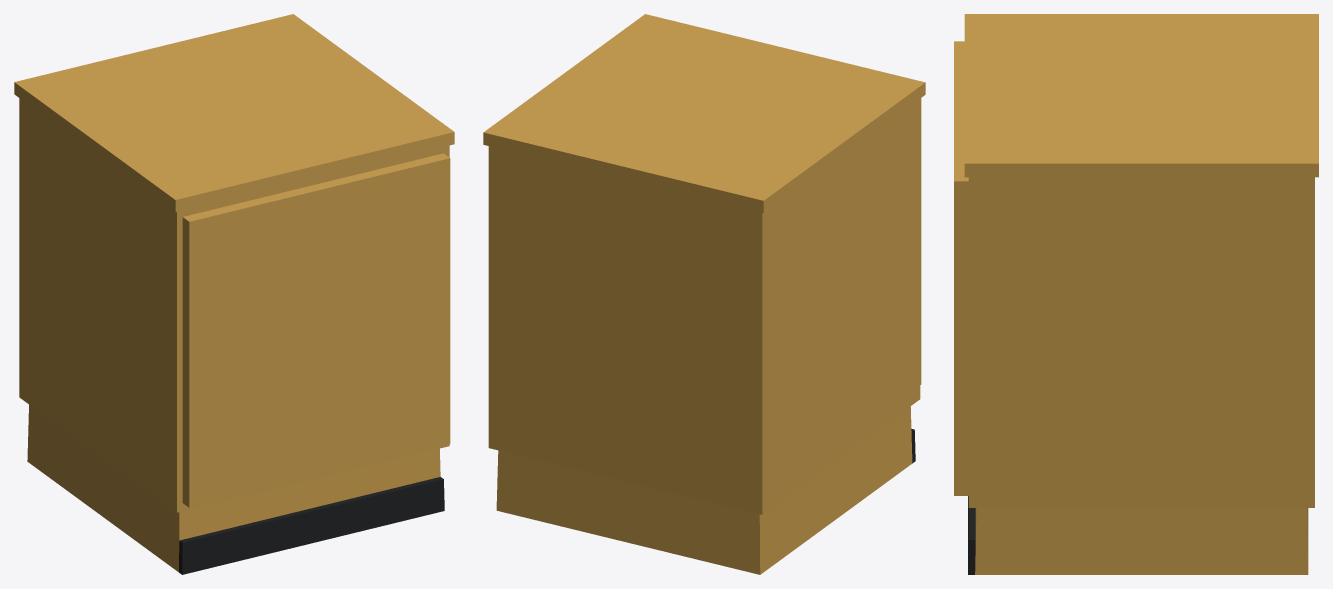
The model's file is Dishwasher_01_D.gltf.
The picture shows the model from 3 angles, left to right: view 1: azimuth 30°, elevation 25°; view 2: azimuth 150°, elevation 25°; view 3: azimuth 270°, elevation 25°; orthographic projection. The views are drawn at different scales.
Visible parts, largest first — view 1: Dishwasher_01_D, DoorDishwasher_01_D; view 2: Dishwasher_01_D, DoorDishwasher_01_D; view 3: Dishwasher_01_D, DoorDishwasher_01_D.
Boxes of the visible parts, box(x1,y1,x2,y2) form: Dishwasher_01_D: box(14, 14, 454, 574); DoorDishwasher_01_D: box(182, 153, 450, 507); Dishwasher_01_D: box(483, 14, 925, 574); DoorDishwasher_01_D: box(920, 98, 921, 384); Dishwasher_01_D: box(964, 14, 1318, 574); DoorDishwasher_01_D: box(954, 41, 968, 495).
Bounding box in the file's own units: 1.02 × 1.32 × 1.05.
1 material, 1 textured.
